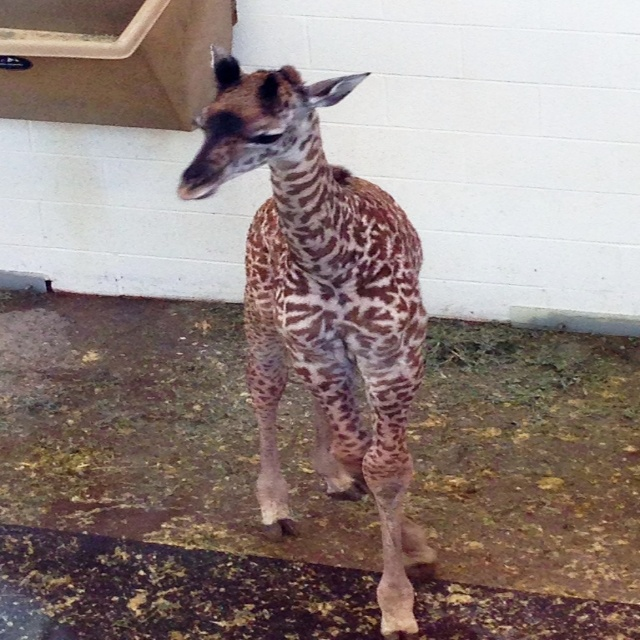Giraffe: (170, 40, 428, 639)
